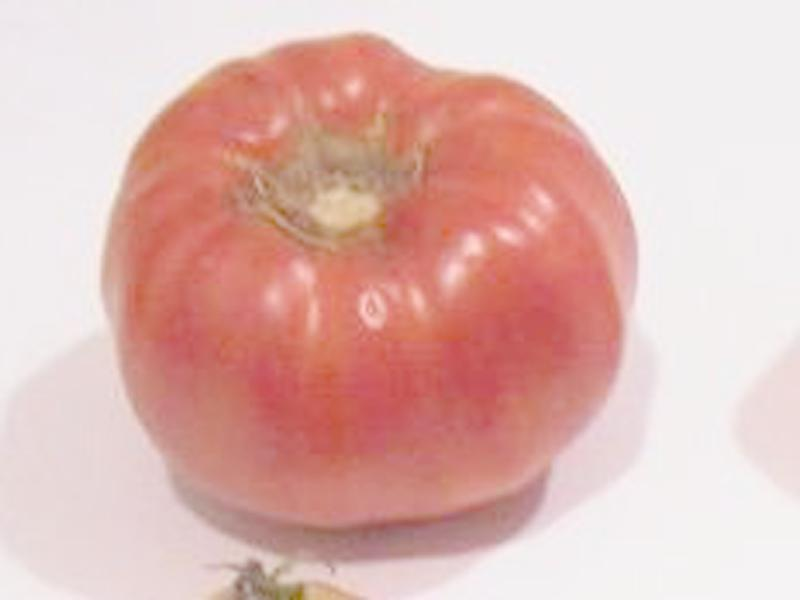Tomato: (103, 36, 631, 518)
